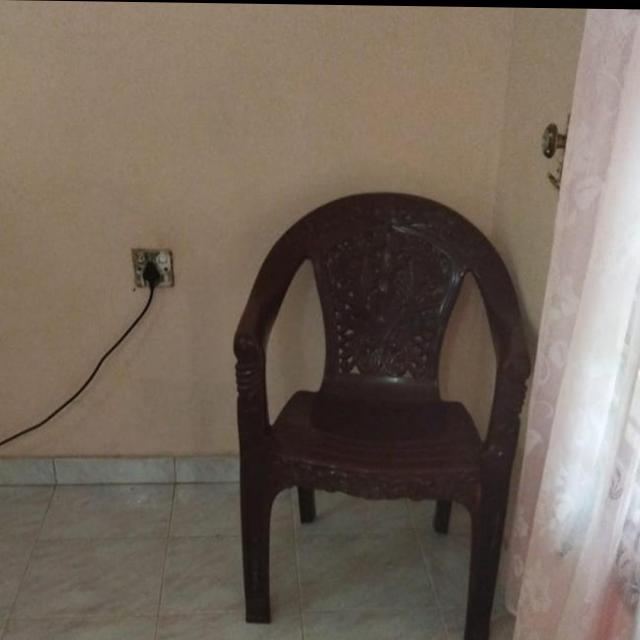Chair: (230, 187, 530, 640)
